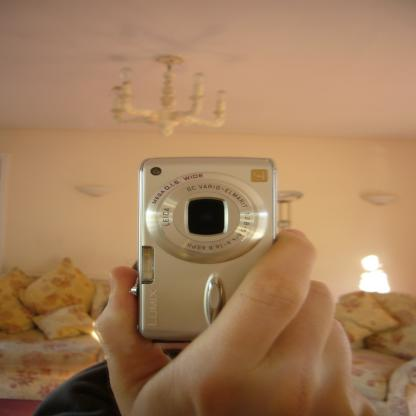Camera: (131, 155, 302, 345)
